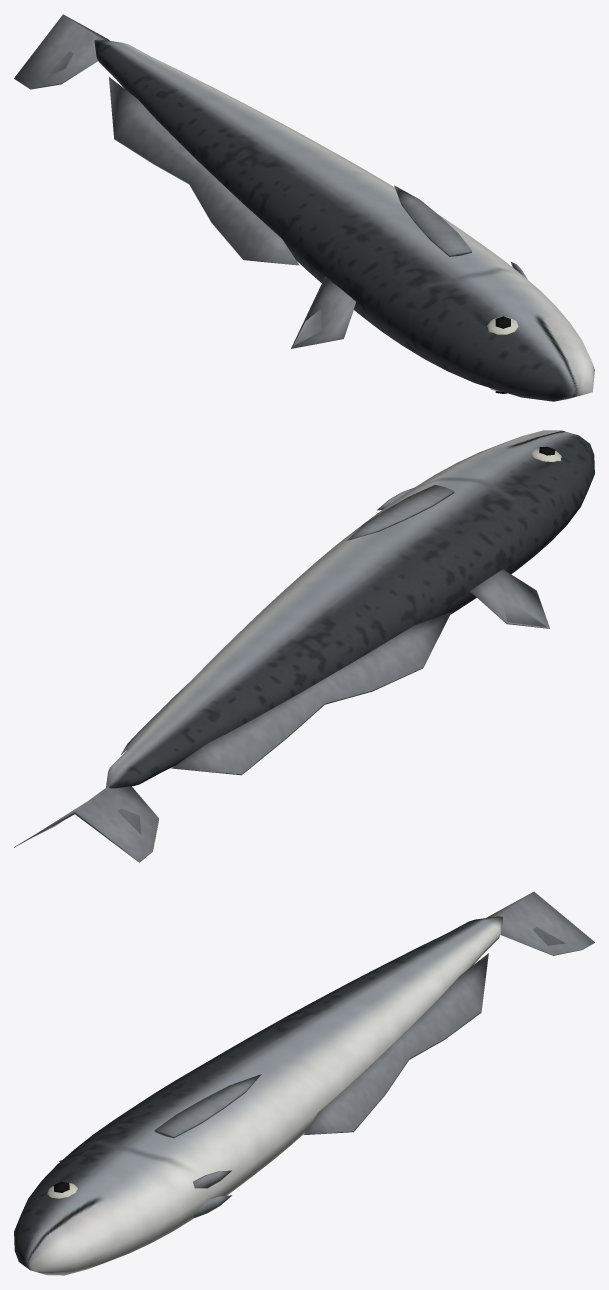
File: fish_hake.glb
3 renders of one model, top to bottom at view 1: azimuth 30°, elevation 25°; view 2: azimuth 150°, elevation 25°; view 3: azimuth 330°, elevation 25°, orthographic.
Parts seen in each view (by area): view 1: fish_hake; view 2: fish_hake; view 3: fish_hake.
Boxes of the visible parts, <box> form: fish_hake: <box>14,14,594,401</box>; fish_hake: <box>14,430,594,862</box>; fish_hake: <box>14,891,594,1275</box>.
Size of the model in its own units: 0.1055 by 0.0448 by 0.457.
3 materials, 1 textured.
